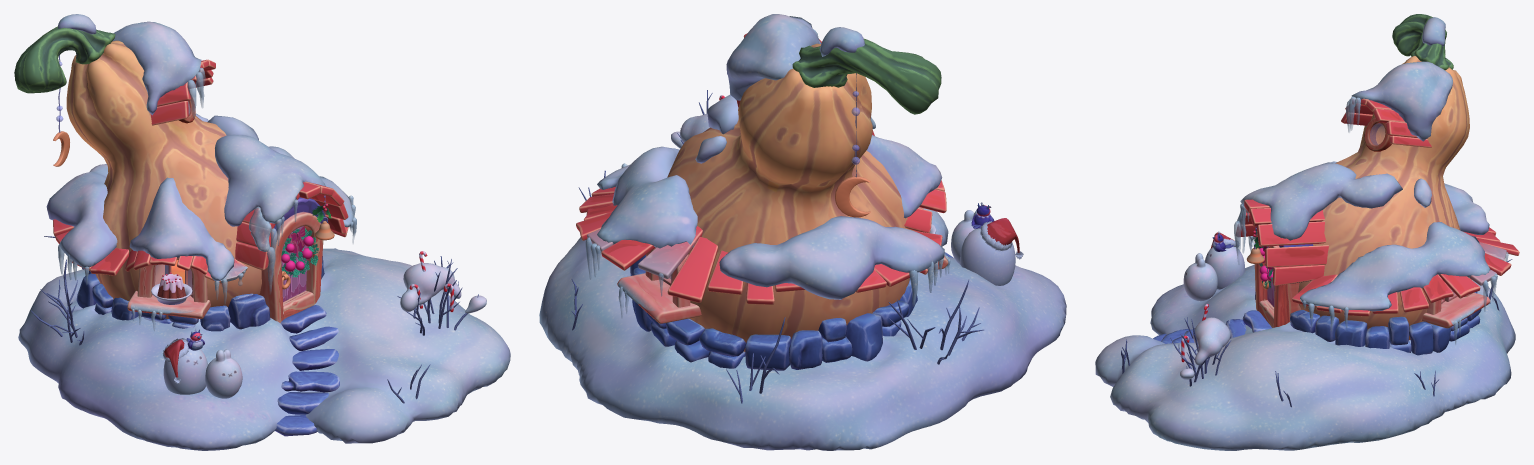
3 renders of one model, left to right at view 1: azimuth 30°, elevation 25°; view 2: azimuth 150°, elevation 25°; view 3: azimuth 270°, elevation 25°, orthographic. The views are drawn at different scales.
Parts seen in each view (by area): view 1: Ground_L, Snow_L_Base_0, pumpkin_L, StonesA_L, Dver (×3), Tail_L, StonesB_L, snowman, Zai2, Zai1_Details_0, casement window6, StonesC_L (+8 smaller); view 2: Ground_L, pumpkin_L, Snow_L_Base_0, Tail_L, StonesC_L, StonesA_L, Zai2, casement window011, Krysha109, StonesB_L, Krysha108, Krysha107 (+8 smaller); view 3: Ground_L, Snow_L_Base_0, pumpkin_L, StonesA_L, Tail_L, StonesB_L, snowman, Dver, Krysha6, Zai1_Details_0, casement window011, Zai2 (+9 smaller).
Boxes of the visible parts, x1,y1,x2,y2 form: Ground_L: [18, 248, 510, 450]; Snow_L_Base_0: [46, 14, 353, 280]; pumpkin_L: [66, 40, 261, 318]; StonesA_L: [88, 263, 339, 436]; Dver (×3): [259, 197, 326, 323]; Tail_L: [14, 26, 115, 93]; StonesB_L: [94, 256, 338, 414]; snowman: [400, 263, 486, 313]; Zai2: [163, 348, 207, 394]; Zai1_Details_0: [205, 349, 242, 398]; casement window6: [127, 285, 210, 318]; StonesC_L: [76, 273, 195, 328]; Ground_L: [539, 208, 1066, 450]; pumpkin_L: [667, 43, 914, 351]; Snow_L_Base_0: [597, 14, 944, 299]; Tail_L: [792, 38, 941, 114]; StonesC_L: [633, 279, 917, 369]; StonesA_L: [632, 252, 952, 370]; Zai2: [960, 228, 1015, 285]; casement window011: [617, 273, 701, 323]; Krysha109: [667, 237, 717, 302]; StonesB_L: [647, 278, 910, 362]; Krysha108: [638, 226, 702, 278]; Krysha107: [601, 239, 654, 270]; Ground_L: [1095, 264, 1515, 450]; Snow_L_Base_0: [1240, 17, 1490, 311]; pumpkin_L: [1298, 56, 1469, 340]; StonesA_L: [1153, 292, 1481, 355]; Tail_L: [1392, 14, 1453, 70]; StonesB_L: [1161, 310, 1480, 352]; snowman: [1180, 317, 1230, 379]; Dver: [1254, 233, 1301, 327]; Krysha6: [1264, 245, 1328, 267]; Zai1_Details_0: [1183, 253, 1217, 301]; casement window011: [1422, 290, 1490, 328]; Zai2: [1205, 246, 1245, 289].
Bounding box in the file's own units: 303 × 247 × 319.
Materials: 4 (4 with a texture image).
